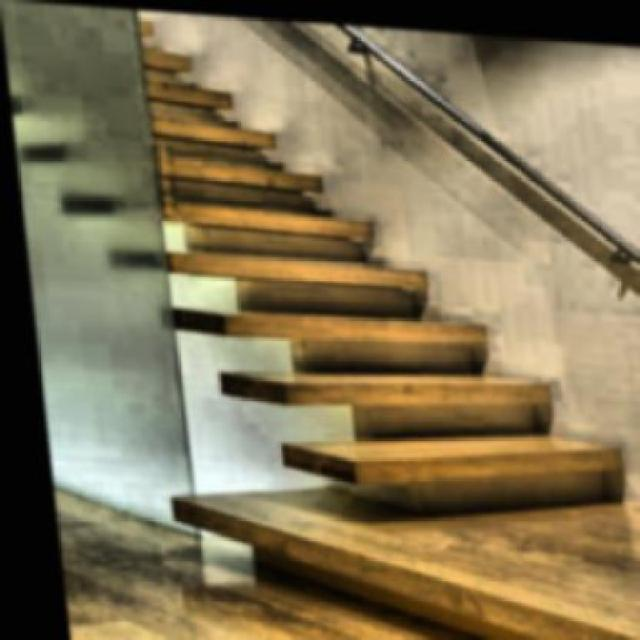stair: (54, 8, 617, 474)
